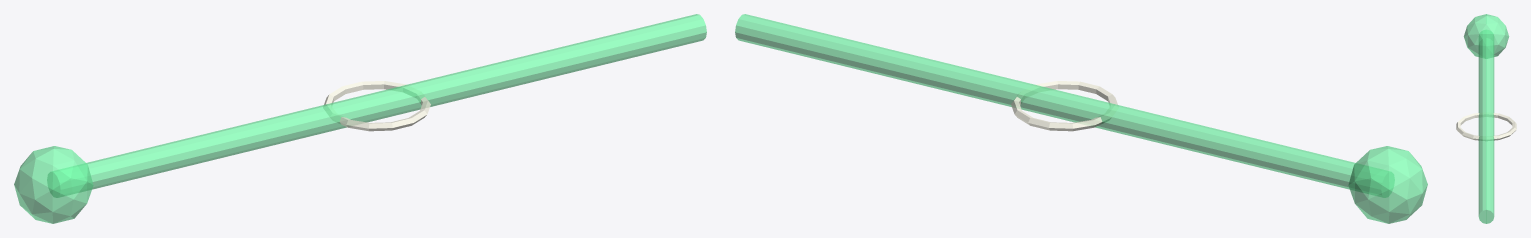
Rendered from vfx_beam_healing_green.glb.
The picture shows the model from 3 angles, left to right: view 1: azimuth 30°, elevation 25°; view 2: azimuth 150°, elevation 25°; view 3: azimuth 270°, elevation 25°; orthographic projection. The views are drawn at different scales.
Parts seen in each view (by area): view 1: beam_core, origin, ring; view 2: beam_core, origin, ring; view 3: beam_core, origin, ring.
Boxes of the visible parts, <box> form: beam_core: <box>47,14,706,197</box>; origin: <box>14,146,93,223</box>; ring: <box>323,81,430,131</box>; beam_core: <box>735,14,1394,197</box>; origin: <box>1348,146,1427,223</box>; ring: <box>1011,81,1118,131</box>; beam_core: <box>1478,30,1494,223</box>; origin: <box>1463,14,1509,58</box>; ring: <box>1456,112,1516,140</box>.
Bounding box in the file's own units: 3.16 × 0.32 × 0.4251.
